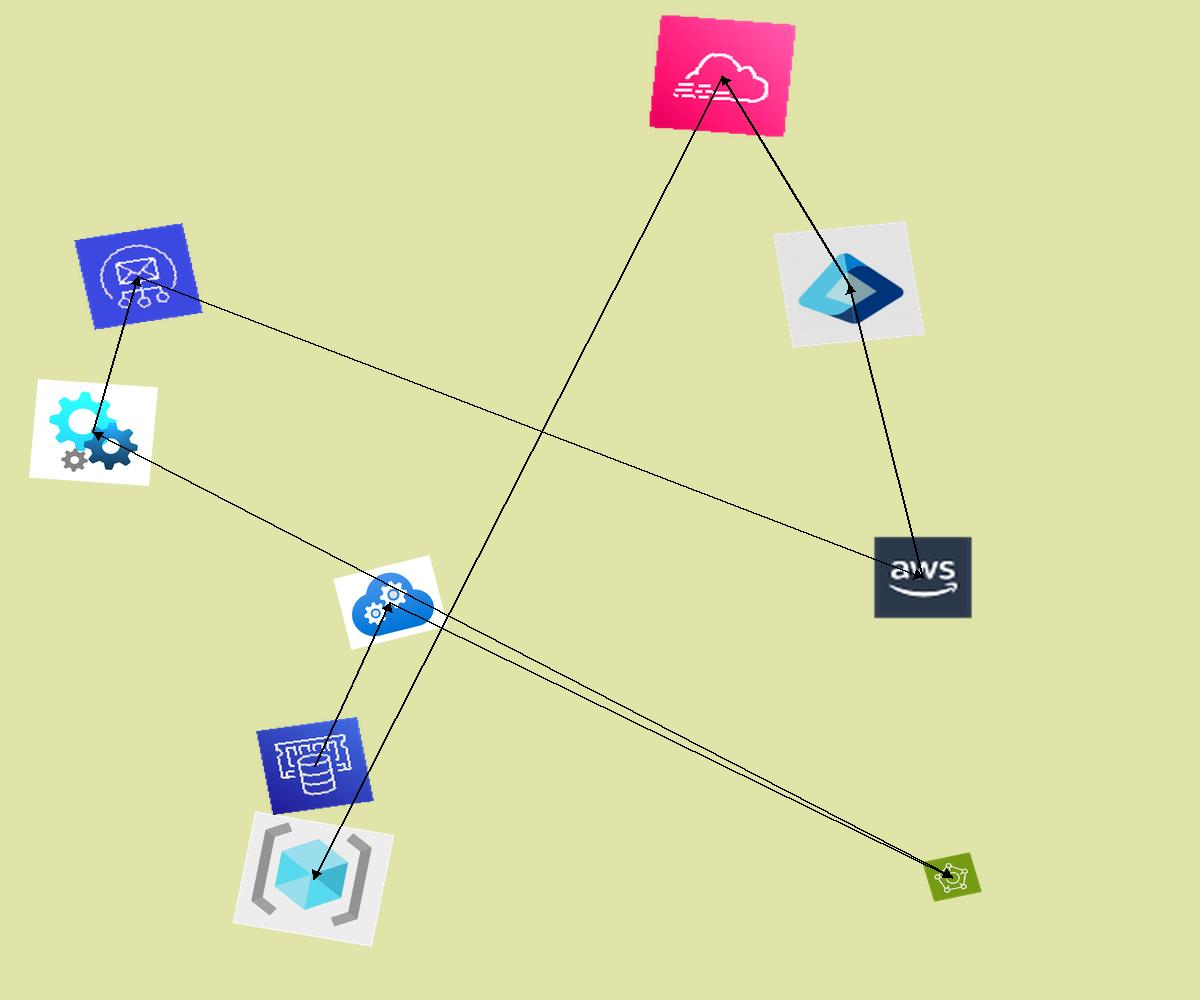AWS-Backup: (922, 852, 982, 902)
AWS-Cloud-logo: (872, 535, 974, 620)
AWS-CloudTrail: (648, 14, 797, 138)
AWS-ElastiCache: (255, 716, 375, 816)
AWS-Simple-Email-Service: (74, 223, 203, 330)
Azure_api: (29, 379, 158, 486)
Azure_cloud_services: (333, 555, 448, 650)
Azure_microsoft_entra: (773, 221, 925, 348)
Azure_resource_group: (232, 811, 395, 947)
